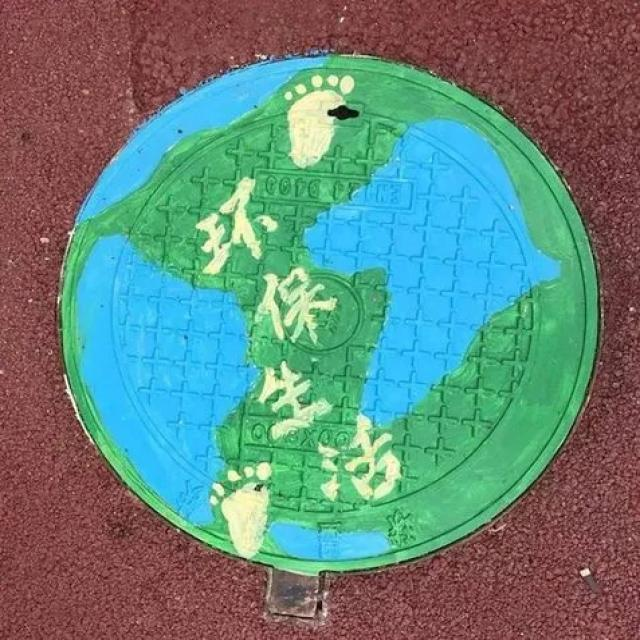manhole: (60, 54, 600, 576)
